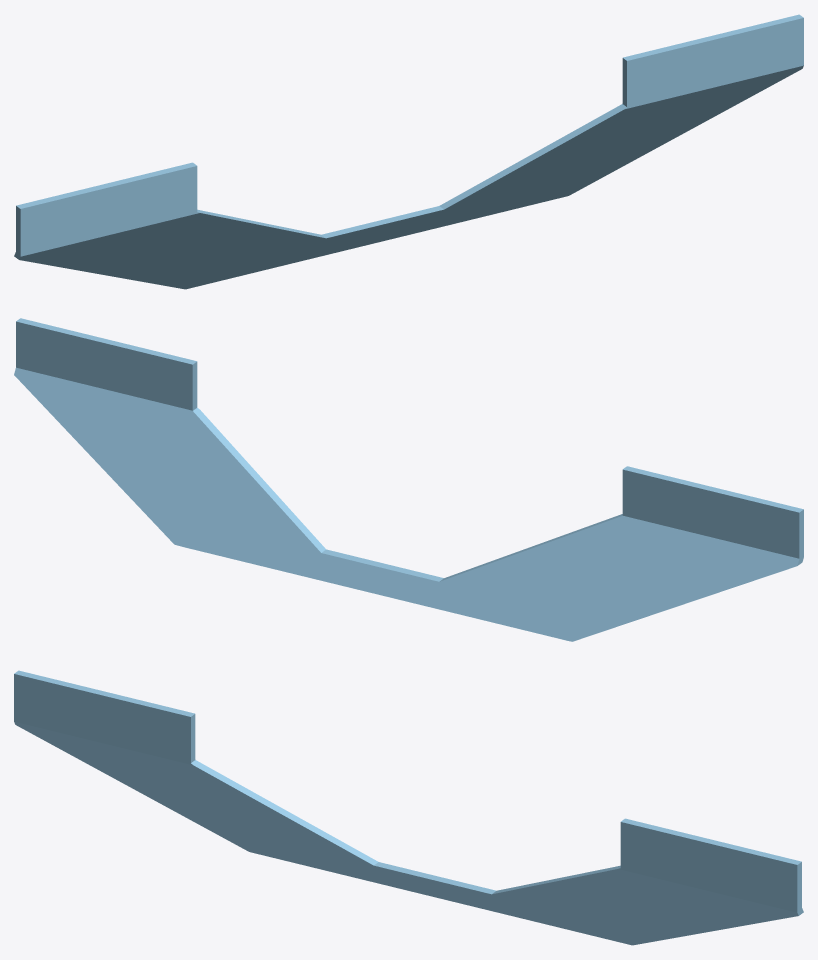
File: aleron_frontal.dae
3 renders of one model, top to bottom at view 1: azimuth 30°, elevation 25°; view 2: azimuth 150°, elevation 25°; view 3: azimuth 330°, elevation 25°, orthographic.
Visible parts, largest first — view 1: ID2; view 2: ID2; view 3: ID2.
Part boxes in pixels (x1,y1,x2,y2): ID2: (14,14,803,289); ID2: (14,318,803,641); ID2: (14,670,803,945).
Bounding box in the file's own units: 0.2657 × 0.0228 × 0.0502.
